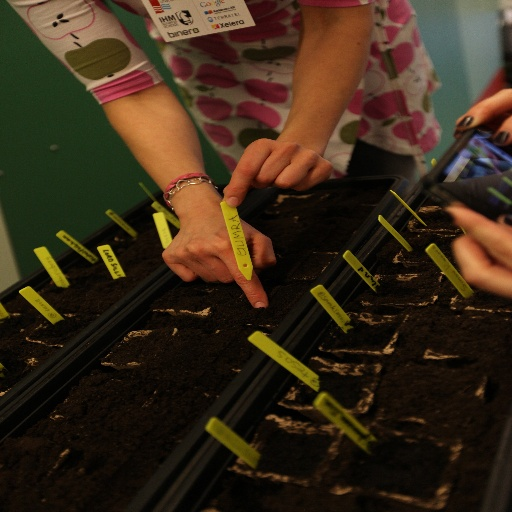hand: (157, 206, 277, 312), (221, 137, 332, 207), (445, 204, 511, 299), (453, 87, 511, 148)
